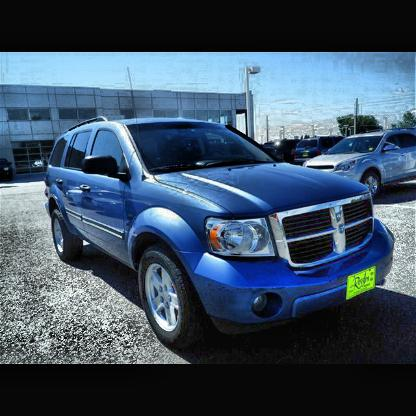Dodge Durango SUV 2007: (47, 117, 395, 351)
